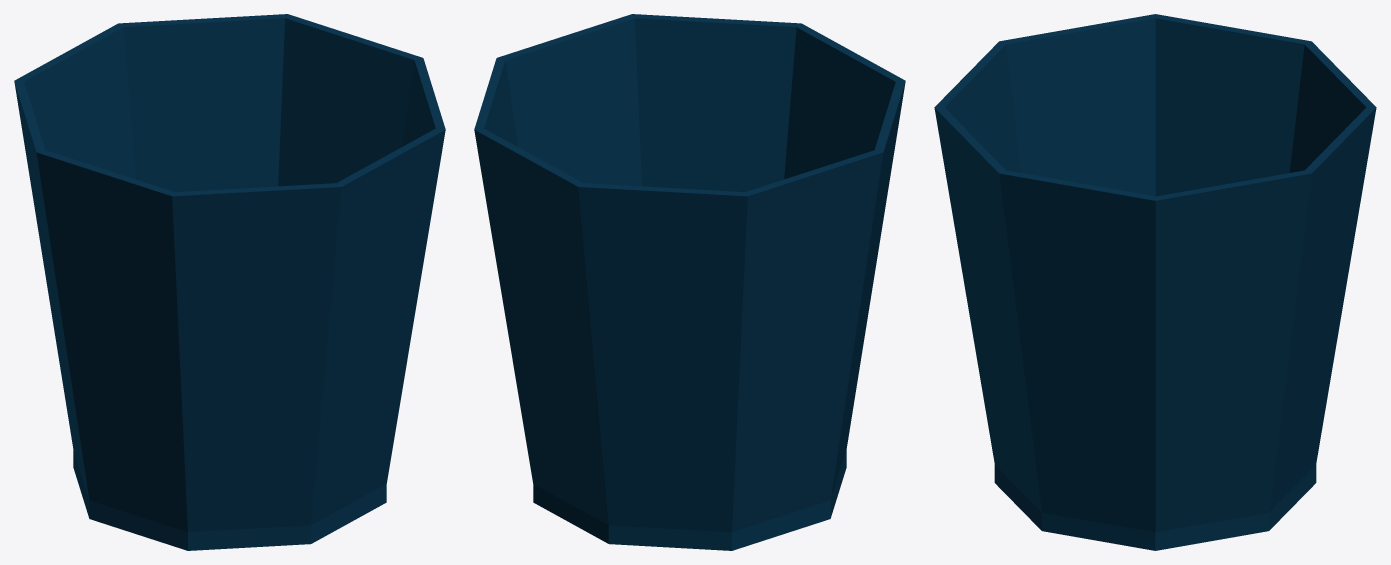
Rendered from thungrac.fbx.
The picture shows the model from 3 angles, left to right: view 1: azimuth 30°, elevation 25°; view 2: azimuth 150°, elevation 25°; view 3: azimuth 270°, elevation 25°; orthographic projection.
Parts seen in each view (by area): view 1: thungrac; view 2: thungrac; view 3: thungrac.
Part boxes in pixels (x1,y1,x2,y2): thungrac: (14,14,445,550); thungrac: (474,14,905,550); thungrac: (934,14,1376,550).
Size of the model in its own units: 84.26 by 78.99 by 84.26.
1 material, 1 textured.
